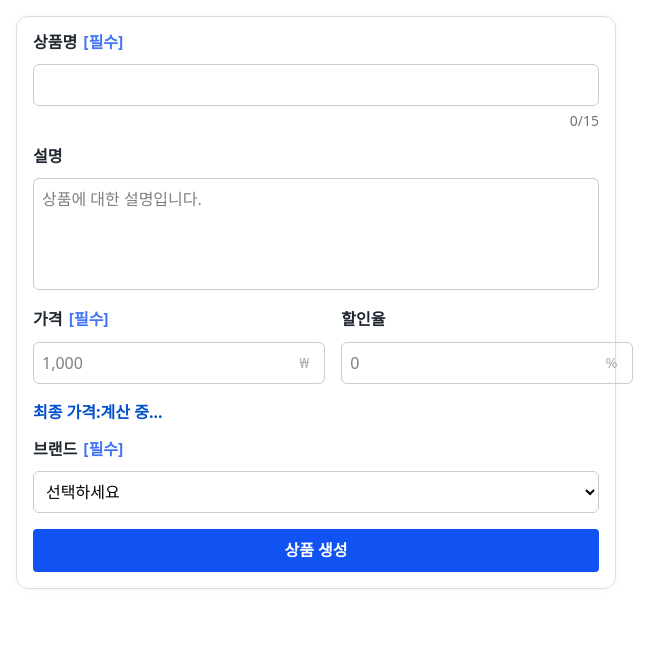
Test case: ProductForm 유효성 검사 › 필수 입력란이 비었으면 에러 메시지 출력
The image size is (650, 655).
Click the button "상품 생성".
click(316, 550)  # box [33,529,599,572]
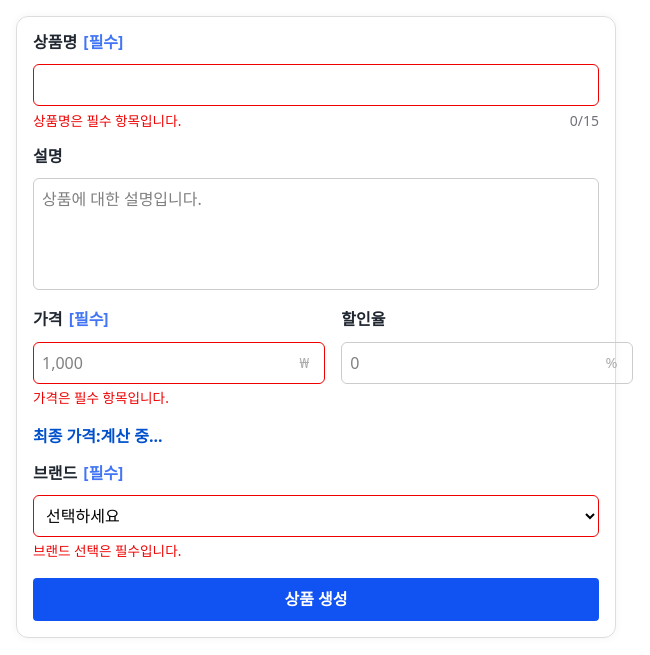
Now the text "상품명은 필수 항목입니다." is shown, box [33,110,181,131]
Now the text "가격은 필수 항목입니다." is shown, box [33,388,169,407]
Now the text "브랜드 선택은 필수입니다." is shown, box [33,541,181,560]
